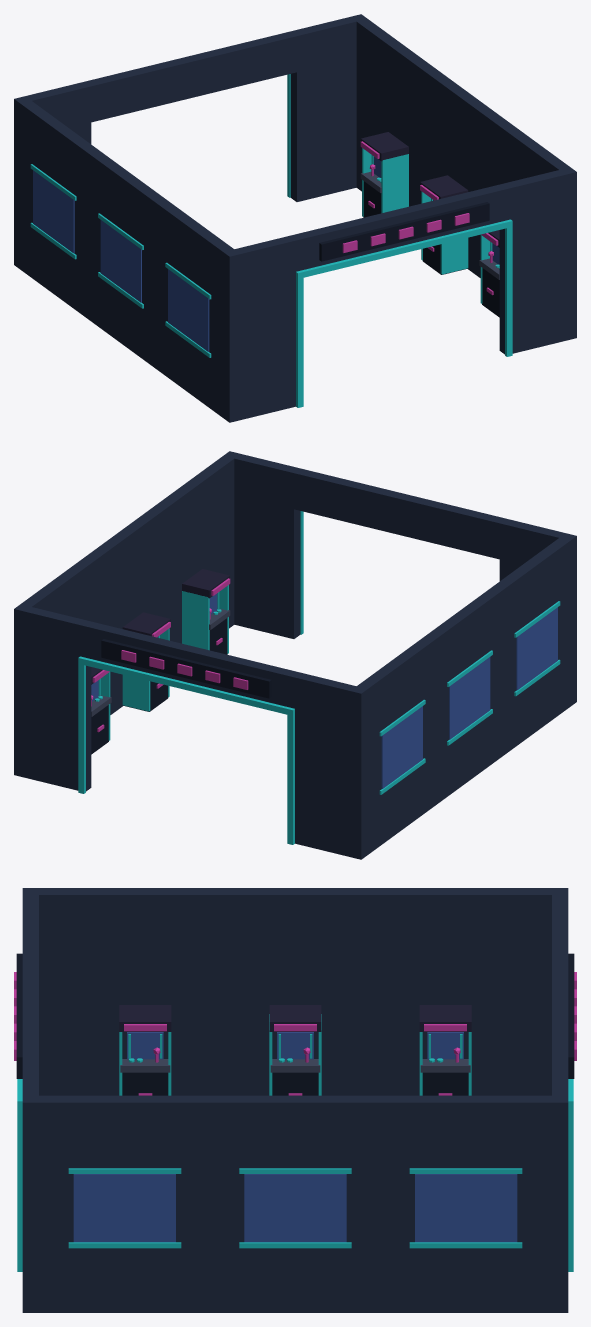
File: Neon_ArcadePassage_Standard.glb
The picture shows the model from 3 angles, top to bottom: view 1: azimuth 30°, elevation 25°; view 2: azimuth 150°, elevation 25°; view 3: azimuth 270°, elevation 25°; orthographic projection. The views are drawn at different scales.
Parts seen in each view (by area): view 1: Neon_ArcadePassage_Standard; view 2: Neon_ArcadePassage_Standard; view 3: Neon_ArcadePassage_Standard.
Part boxes in pixels (x1,y1,x2,y2): Neon_ArcadePassage_Standard: (14,14,576,422); Neon_ArcadePassage_Standard: (14,451,576,859); Neon_ArcadePassage_Standard: (14,888,576,1312).
Bounding box in the file's own units: 7.51 × 3.4 × 8.25.
